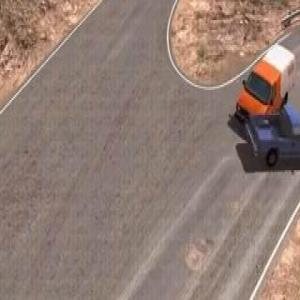minor: (230, 39, 300, 168)
